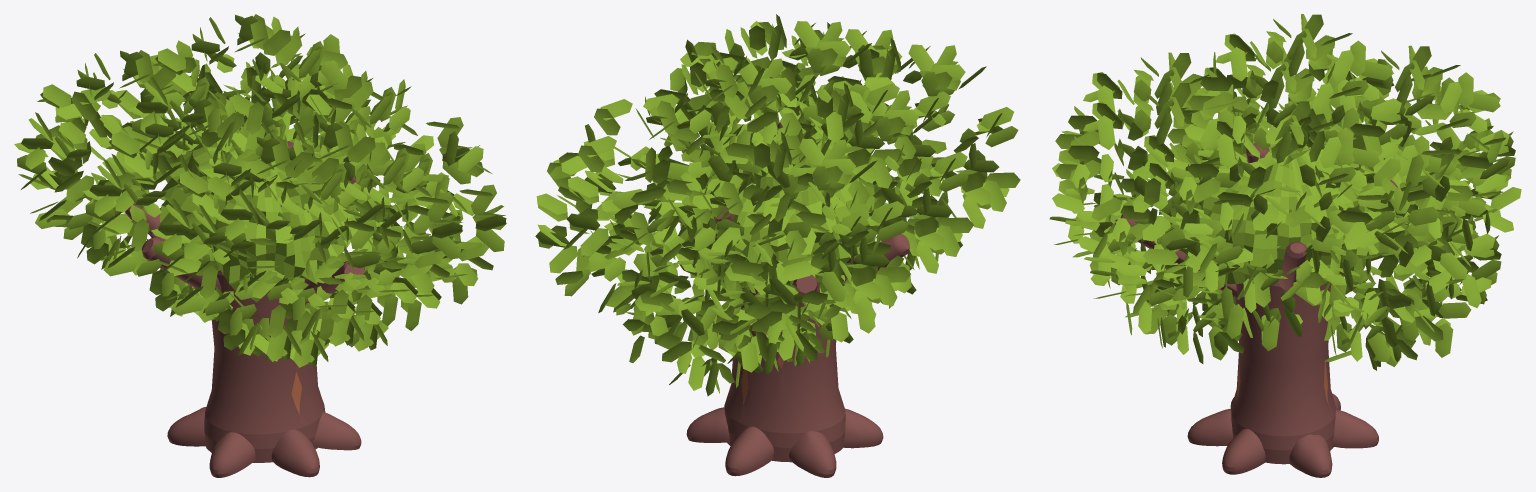
Rendered from arvore-teste2.fbx.
3 renders of one model, left to right at view 1: azimuth 30°, elevation 25°; view 2: azimuth 150°, elevation 25°; view 3: azimuth 270°, elevation 25°, orthographic. The views are drawn at different scales.
Visible parts, largest first — view 1: Plane.003, Cylinder, Sphere.013; view 2: Plane.003, Cylinder, Sphere.013; view 3: Plane.003, Cylinder, Sphere.013.
Part boxes in pixels (x1=…): Plane.003: x1=14, y1=14, x2=506, y2=367; Cylinder: x1=125, y1=141, x2=364, y2=477; Sphere.013: x1=158, y1=130, x2=360, y2=290; Plane.003: x1=535, y1=14, x2=1020, y2=396; Cylinder: x1=686, y1=122, x2=909, y2=477; Sphere.013: x1=678, y1=122, x2=880, y2=288; Plane.003: x1=1049, y1=14, x2=1521, y2=370; Cylinder: x1=1114, y1=143, x2=1398, y2=477; Sphere.013: x1=1165, y1=143, x2=1410, y2=285.
Bounding box in the file's own units: 262 × 301 × 312.
